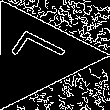L_SE: (2, 29, 71, 81)
